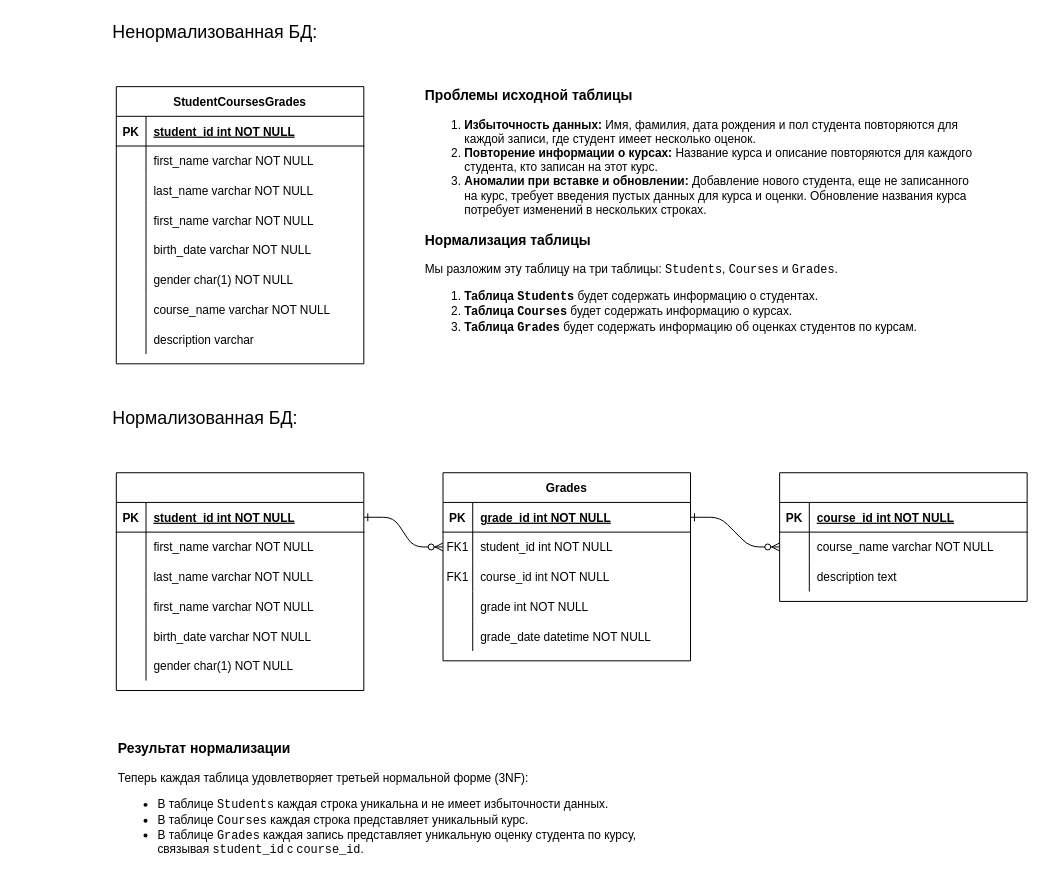
This 1044x895 diagram has some shape labels left out. The shapes that lost their labels are listed below. From the top down, each one's box as (x1, y1, x2, y2) in pixels, then its label:
(779, 472, 1027, 601): Courses
(115, 472, 364, 691): Students
